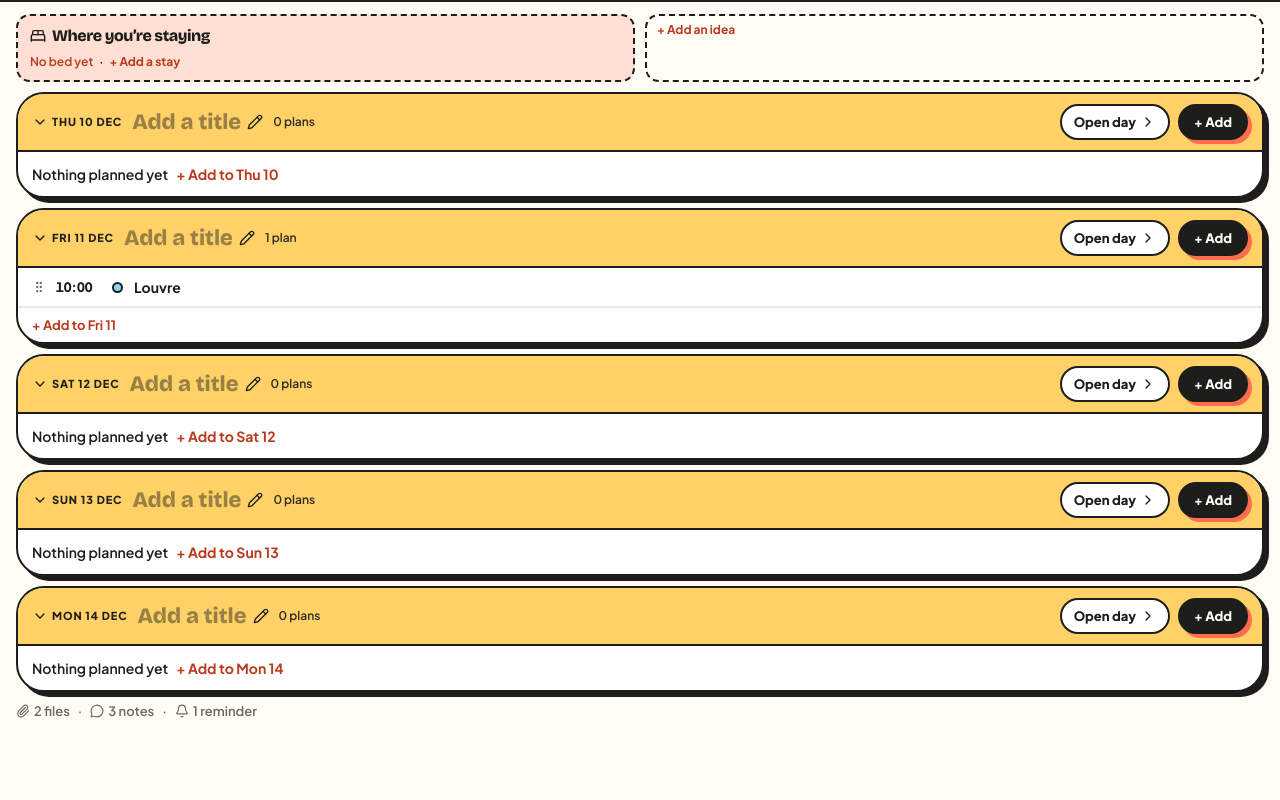
Scenario: StopOpenBody (PLAN.md §4, §5; spec D2; spec 2026-10-04 §A) › storage that refuses writes (private mode): the day still folds for this visit
Click the button "FRI 11 DEC". click: (73, 238)
box: [32,230,114,246]
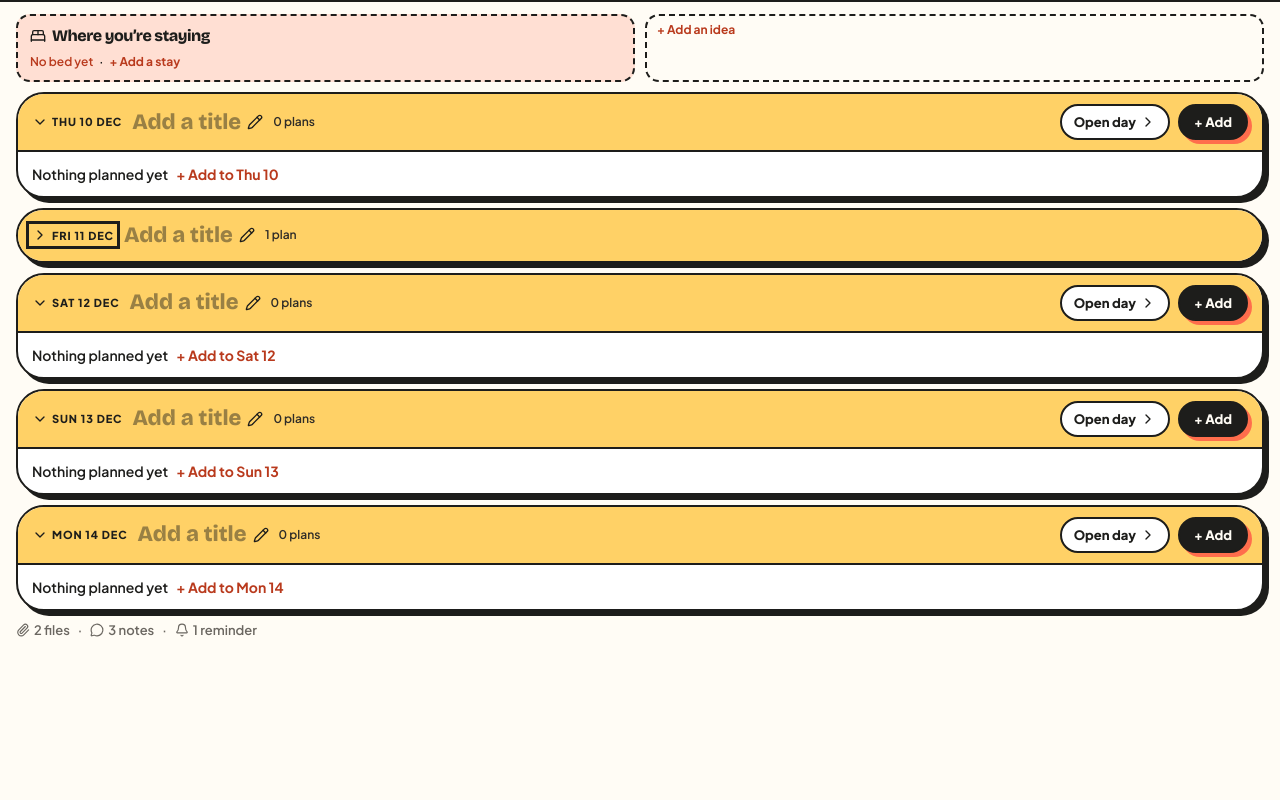
Expected: the button "FRI 11 DEC" is collapsed, [32,227,114,243]
